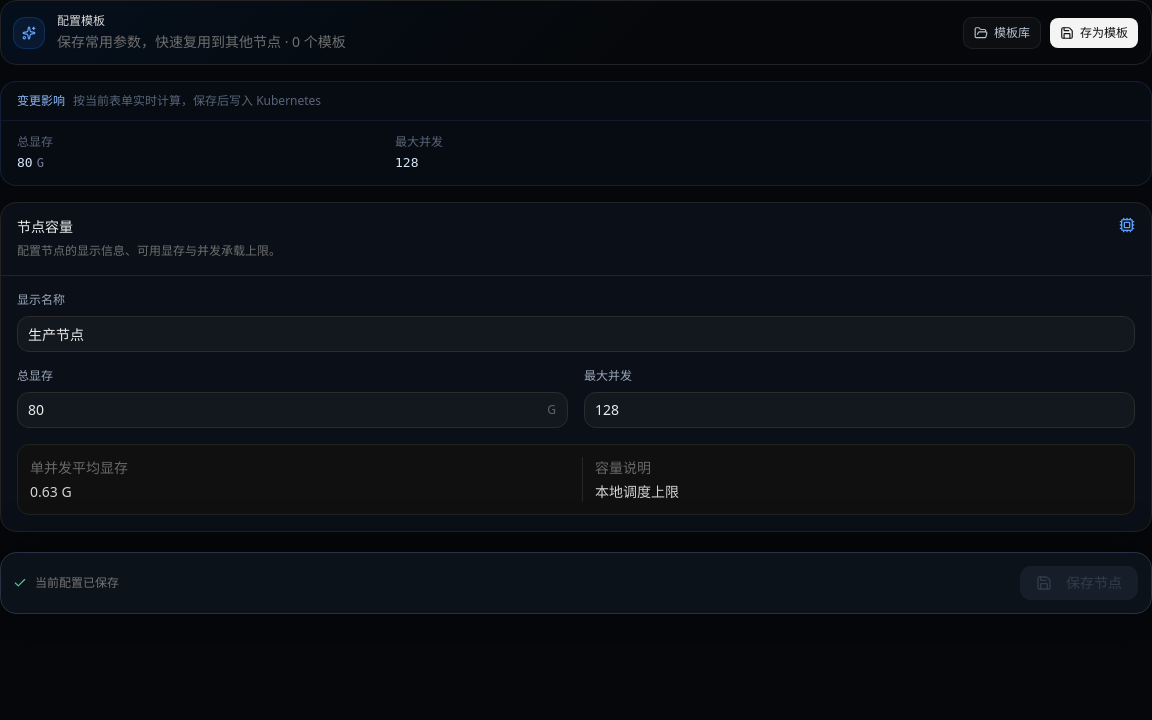
Test: NodeForm › 总显存修改后单并发显存实时重算
The width and height of the screenshot is (1152, 720).
Replace the text in the 1st number field with "64" at (292, 410), box [17, 392, 568, 428]
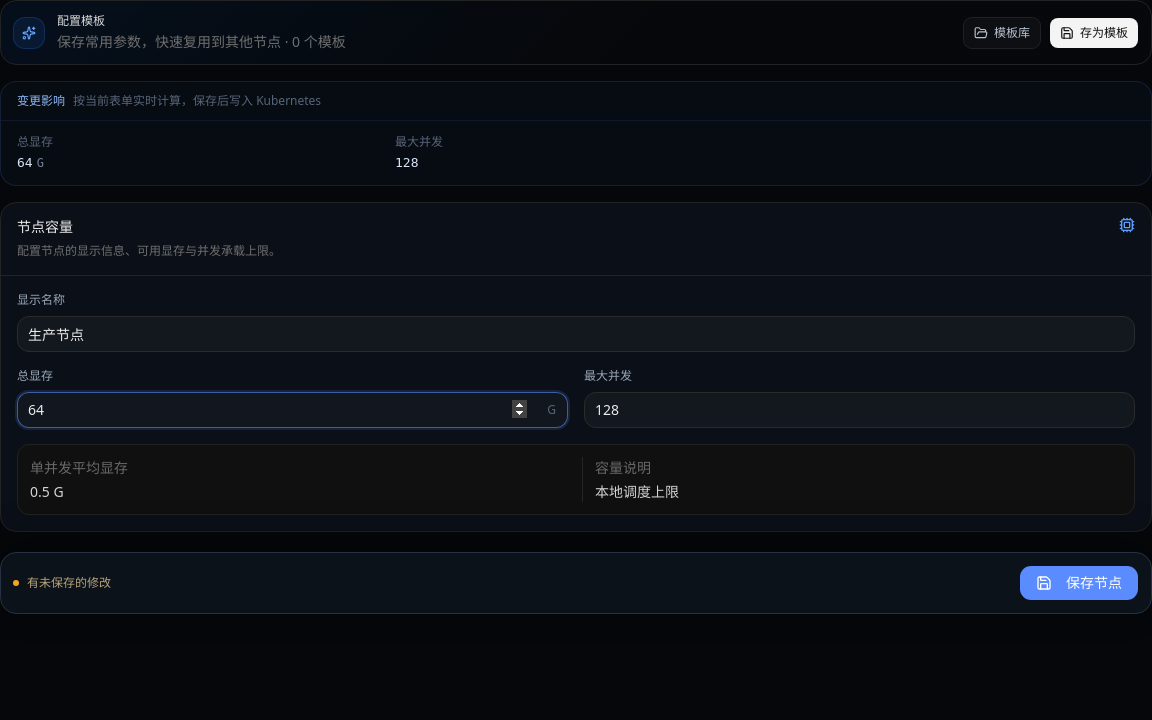
Result: the text "0.5 G" is shown at [30, 482, 64, 500]
